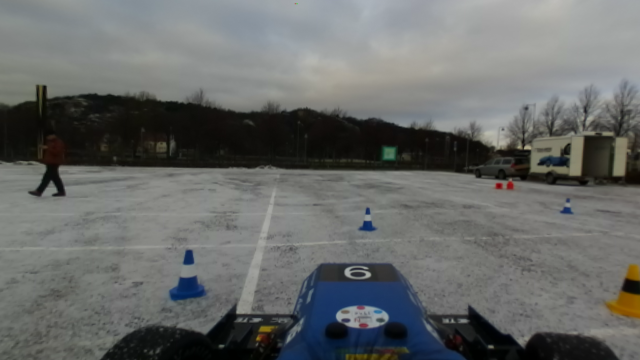blue: (166, 245, 207, 303), (355, 206, 379, 231), (561, 197, 572, 212)
yellow: (607, 264, 640, 320)
